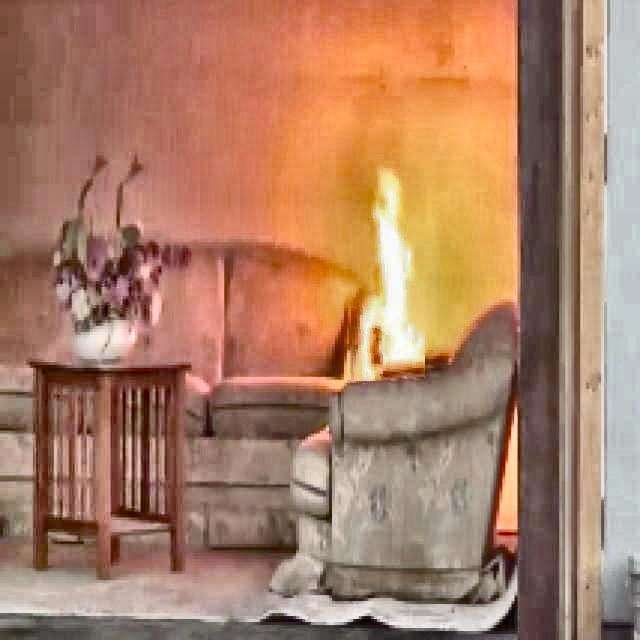fire: (345, 172, 448, 365)
